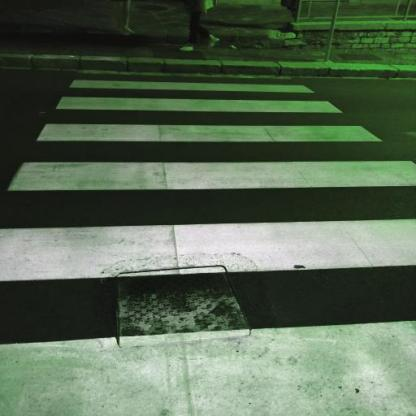crosswalk: (3, 212, 415, 415), (32, 93, 388, 152)
